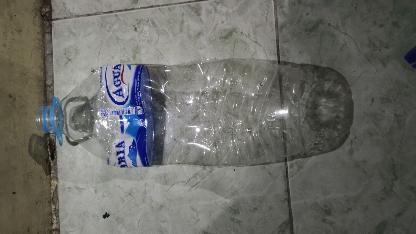Plastic Bottle: (34, 59, 354, 169)
